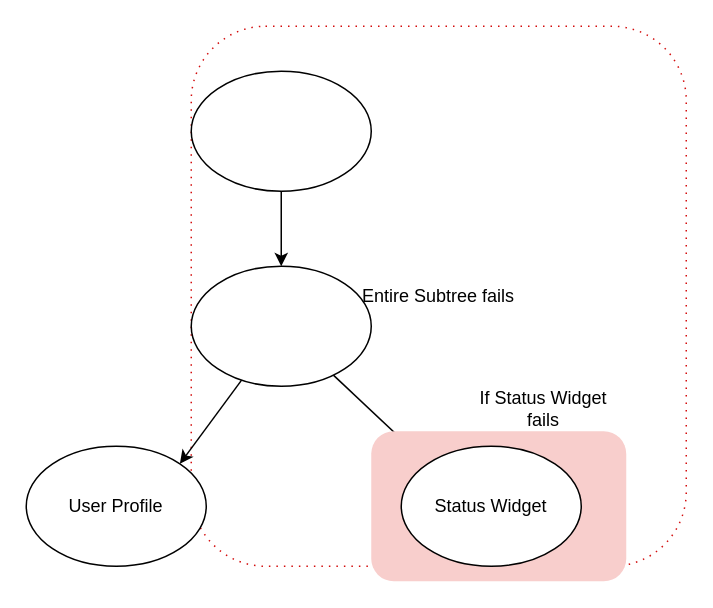
Image size: 713x608. Some labels were removed from this diagram. The shapes that lost their labels are listed below. From the top down, each one's centre as x and y in pixels, then its label:
At point 280,130: "Main".
At point 280,325: "App".
